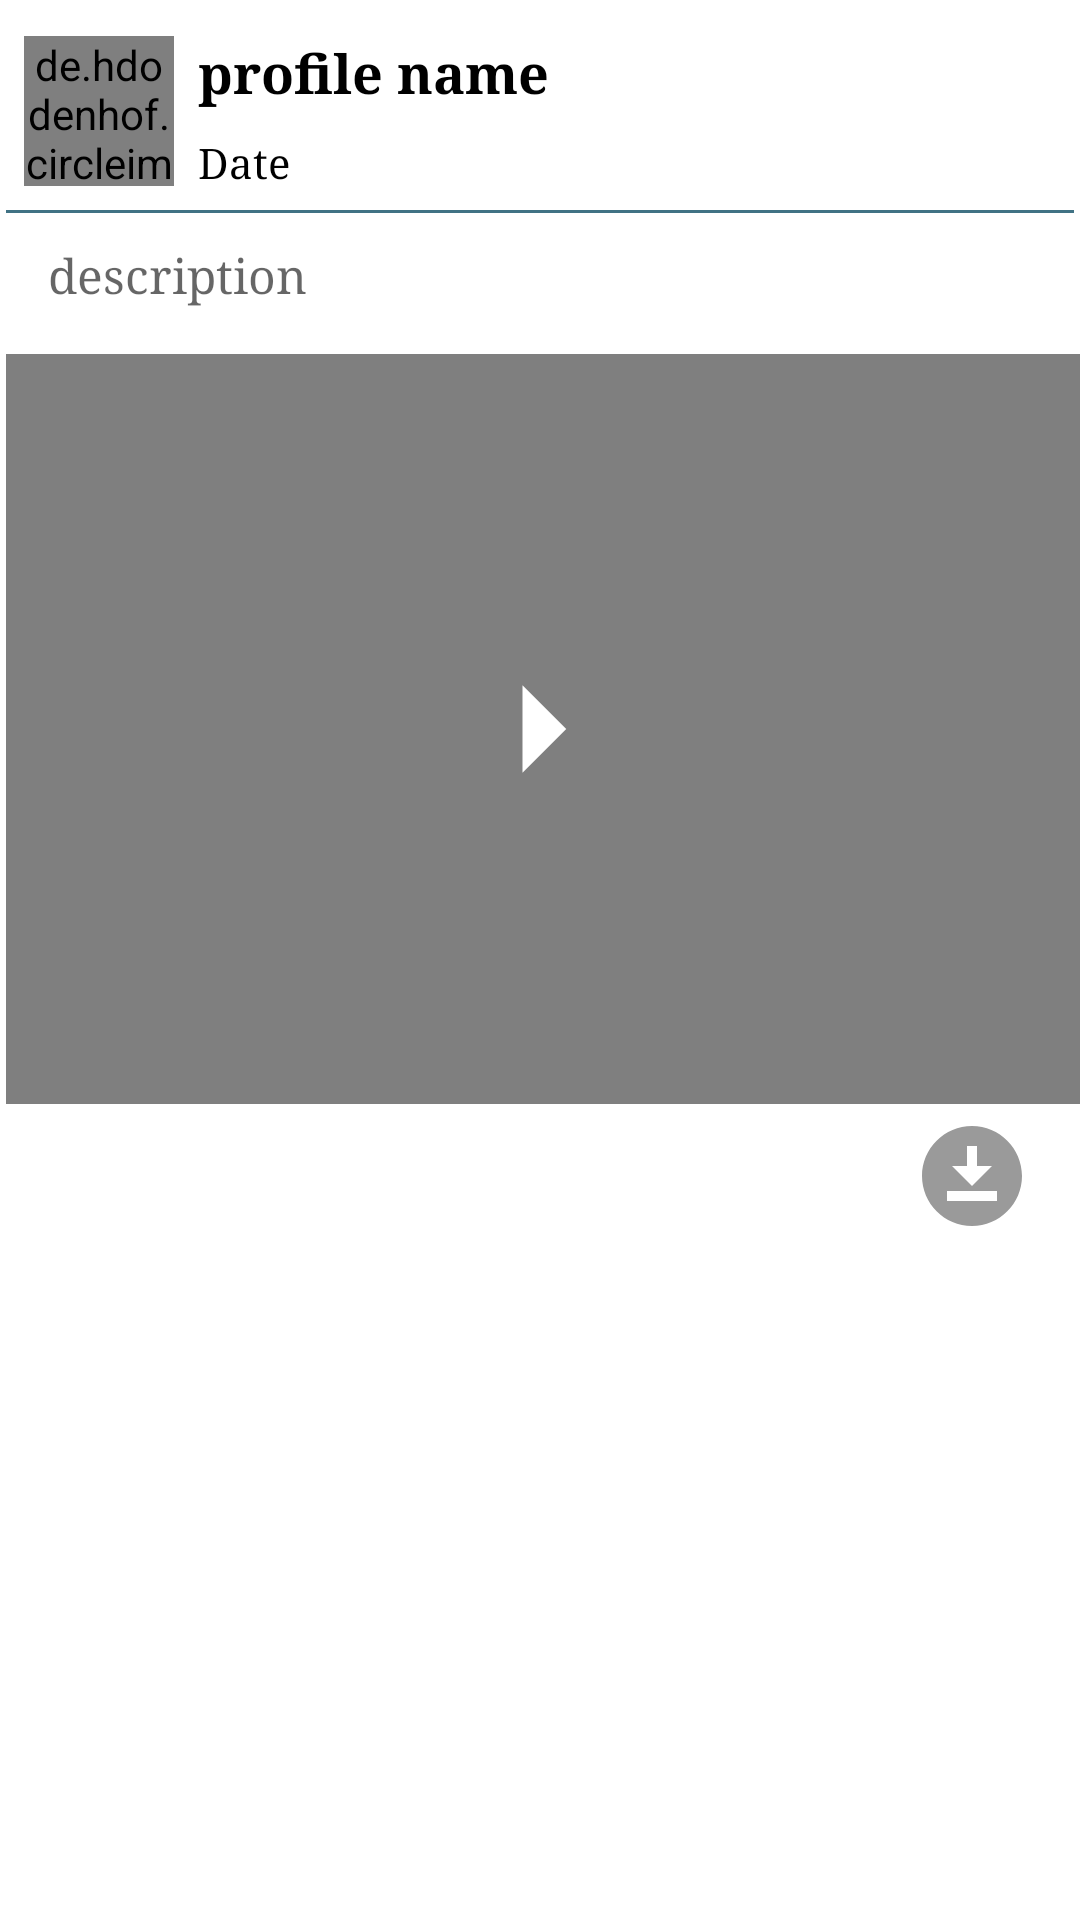

Icon click points for this 1080w x 1920h phone screenshot, format (x=x, y=y):
download: (x=972, y=1176)
play arrow: (x=544, y=729)
